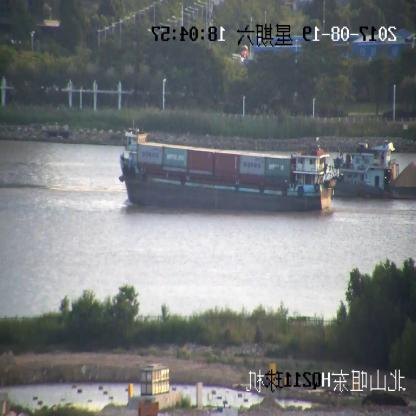Container Ship: (119, 142, 334, 214)
